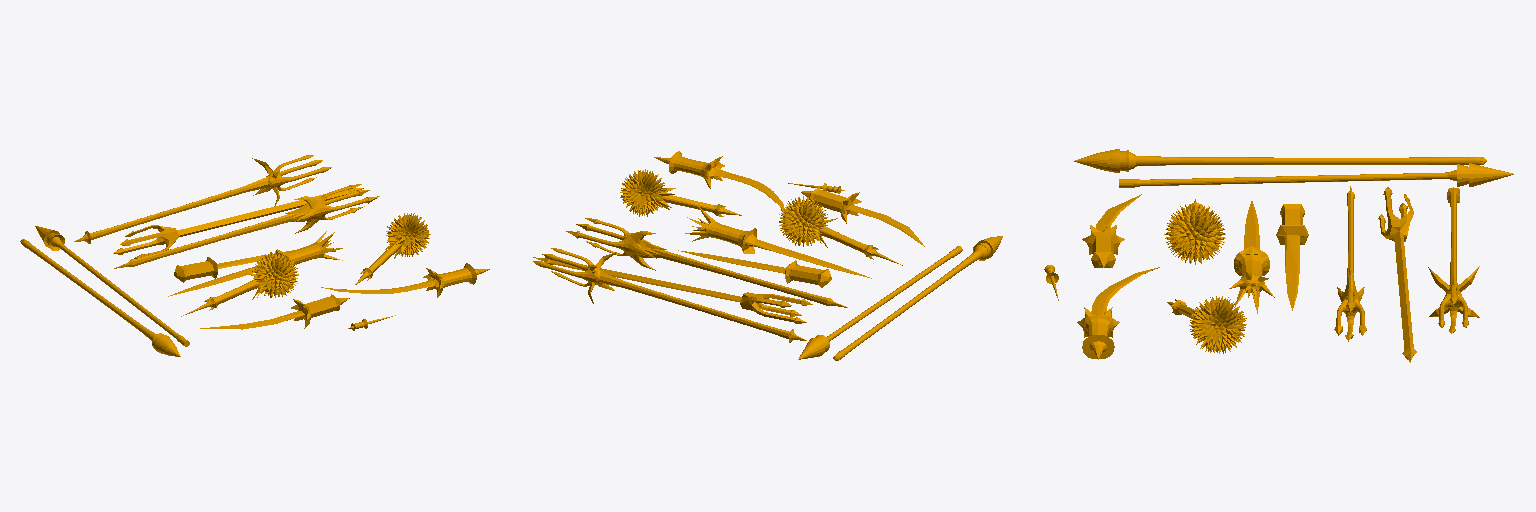
robot.urdf — weapons:
<robot name="weapons">
  <link name="weapons">
    <inertial>
      <origin xyz="0 0 0.0145"/>
      <mass value="0.1" />
      <inertia  ixx="0.0001" ixy="0.0"  ixz="0.0"  iyy="0.0001"  iyz="0.0"  izz="0.0001" />
    </inertial>
    <visual>
      <origin xyz="0 0 0.0145"/>
      <geometry>        
     <mesh filename="weapons.dae" scale="1 1 1"/>
    </geometry>
    </visual>
    <collision>
      <origin xyz="0 0 0.0145"/>
      <geometry>
        <box size="0.029 0.029 0.029"/>
      </geometry>
    </collision>
  </link>
  <gazebo reference="weapons">
    <material>Gazebo/Blue</material>
  </gazebo>
</robot>

--- Facts derived from the render (not from the file) ---
Views: 3 orthographic renders of the robot side by side, from view 1: azimuth 30°, elevation 25°; view 2: azimuth 150°, elevation 25°; view 3: azimuth 270°, elevation 25°.
Model weapons with 1 links and 0 joints (none), rooted at weapons, posed every joint at zero.
Visible links, largest first — view 1: weapons; view 2: weapons; view 3: weapons.
Link boxes in pixels (x1,y1,x2,y2): weapons: (20, 155, 489, 356); weapons: (533, 151, 1002, 360); weapons: (1044, 149, 1513, 362).
Bounding box of the posed robot: 1.08 × 1.03 × 0.1376 m (x, y, z).
1 mesh visuals loaded from 1 distinct referenced files (1 Collada DAE).